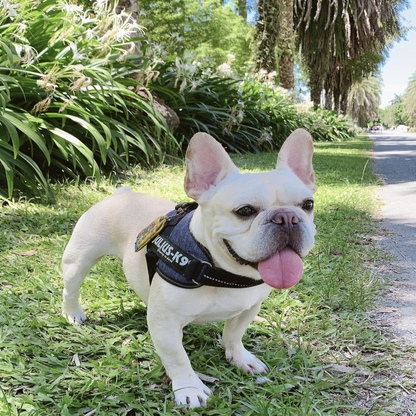bulldog: (59, 124, 319, 411)
